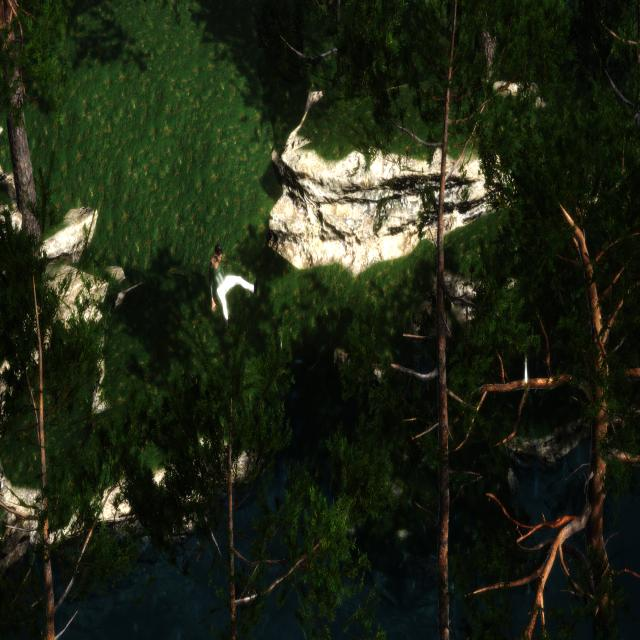Human: (203, 238, 264, 344)
